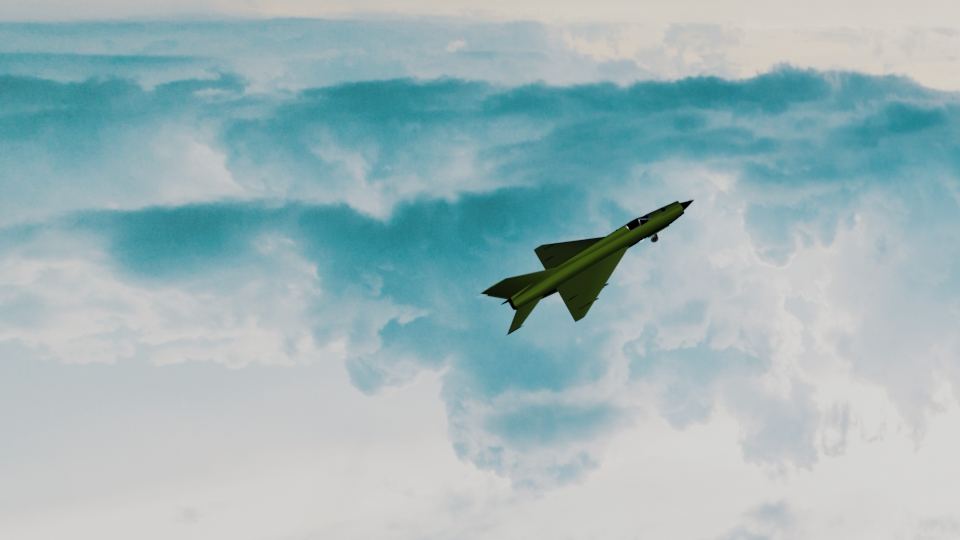plane: (477, 198, 695, 332)
